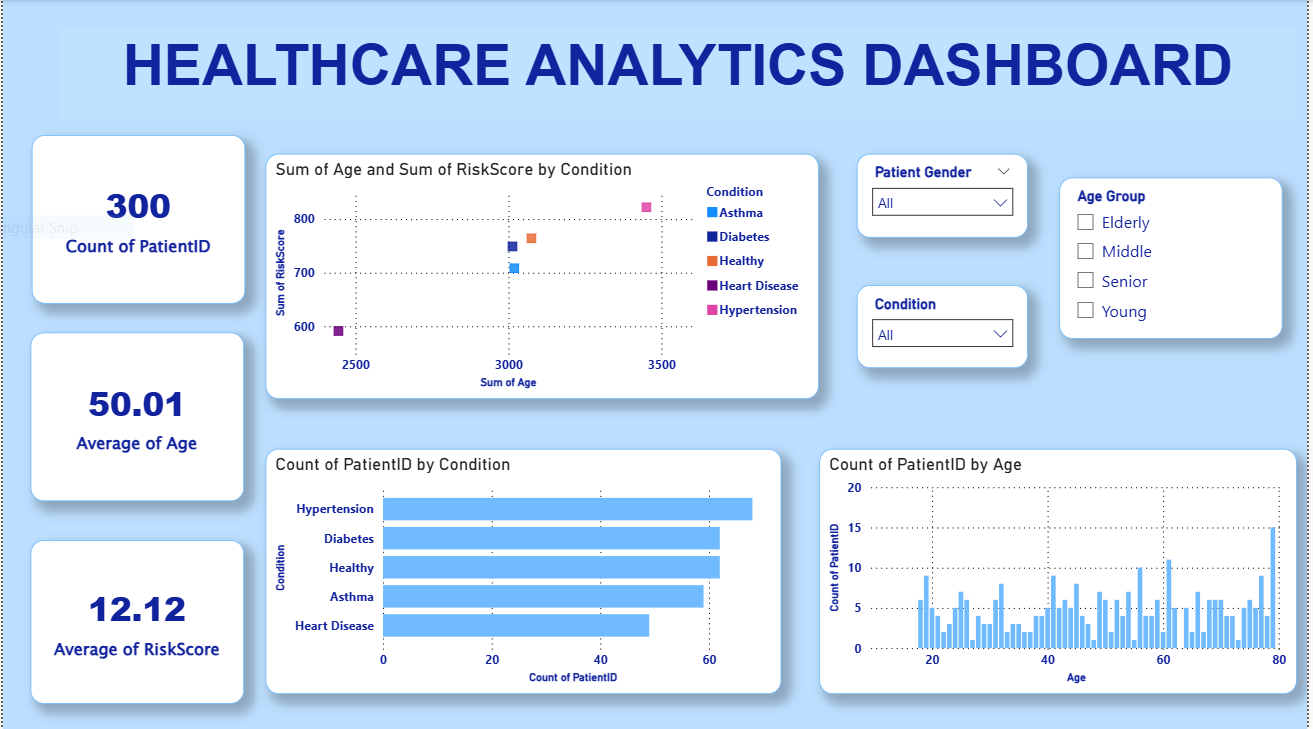

This screenshot's page, from the dashboard's own definition file:
{"tool":"powerbi","page":{"name":"Page 1","canvas":[1280,720],"ordinal":0},"visuals":[{"type":"card","fields":{"Values":["CountNonNull(cleaned_heathcare_data.PatientID)"]},"box":[28.5,132.6,209.5,165.3],"z":0},{"type":"card","fields":{"Values":["Avg(cleaned_heathcare_data.Age)"]},"box":[27.1,326.4,209.5,165.3],"z":1},{"type":"card","fields":{"Values":["Avg(cleaned_heathcare_data.RiskScore)"]},"box":[27.1,530.2,209.5,161.1],"z":2},{"type":"scatterChart","fields":{"X":["Sum(cleaned_heathcare_data.Age)"],"Y":["Sum(cleaned_heathcare_data.RiskScore)"],"Series":["cleaned_heathcare_data.Condition"]},"box":[258,151.1,543.1,240.9],"z":3},{"type":"clusteredBarChart","fields":{"Category":["cleaned_heathcare_data.Condition"],"Y":["CountNonNull(cleaned_heathcare_data.PatientID)"]},"box":[258,440.4,506,240.9],"z":4},{"type":"clusteredColumnChart","fields":{"Category":["cleaned_heathcare_data.Age"],"Y":["CountNonNull(cleaned_heathcare_data.PatientID)"]},"box":[801.1,440.4,469,240.9],"z":5},{"type":"slicer","fields":{"Values":["cleaned_heathcare_data.Gender"]},"box":[838.1,151.1,168.2,82.7],"z":6},{"type":"slicer","fields":{"Values":["cleaned_heathcare_data.Condition"]},"box":[838.1,279.4,168.2,81.2],"z":7},{"type":"slicer","fields":{"Values":["cleaned_heathcare_data.Age_Group"]},"box":[1036.3,173.9,219.5,158.2],"z":8},{"type":"textbox","box":[55.6,27.1,1214.4,89.8],"z":9}]}

Visuals, with their boxes in screenshot pixels (x1, y1, x2, y2), scaled from the page's 1280x720 canvas onto the 1313x729 screenshot:
card - CountNonNull(cleaned_heathcare_data.PatientID): [left=29, top=134, right=244, bottom=302]
card - Avg(cleaned_heathcare_data.Age): [left=28, top=330, right=243, bottom=498]
card - Avg(cleaned_heathcare_data.RiskScore): [left=28, top=537, right=243, bottom=700]
scatterChart - Sum(cleaned_heathcare_data.Age) x Sum(cleaned_heathcare_data.RiskScore): [left=265, top=153, right=822, bottom=397]
clusteredBarChart - cleaned_heathcare_data.Condition x CountNonNull(cleaned_heathcare_data.PatientID): [left=265, top=446, right=784, bottom=690]
clusteredColumnChart - cleaned_heathcare_data.Age x CountNonNull(cleaned_heathcare_data.PatientID): [left=822, top=446, right=1303, bottom=690]
slicer - cleaned_heathcare_data.Gender: [left=860, top=153, right=1032, bottom=237]
slicer - cleaned_heathcare_data.Condition: [left=860, top=283, right=1032, bottom=365]
slicer - cleaned_heathcare_data.Age_Group: [left=1063, top=176, right=1288, bottom=336]
textbox: [left=57, top=27, right=1303, bottom=118]
